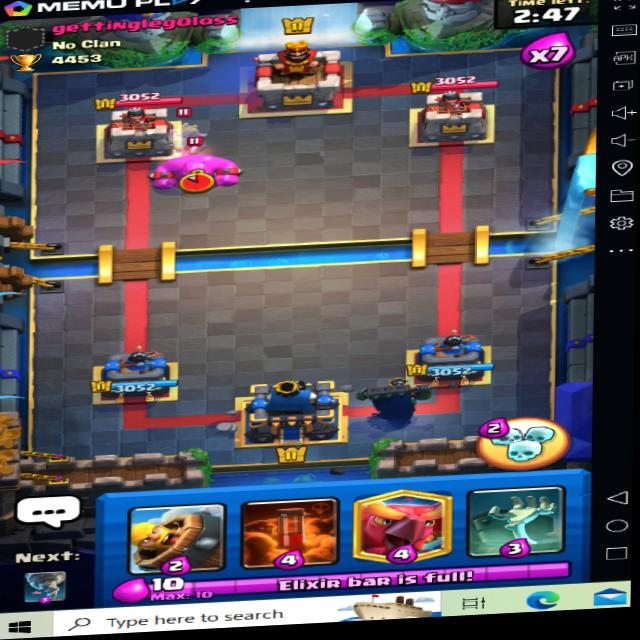electro-golem: (138, 144, 243, 196)
royal-ghost: (158, 113, 212, 158)
